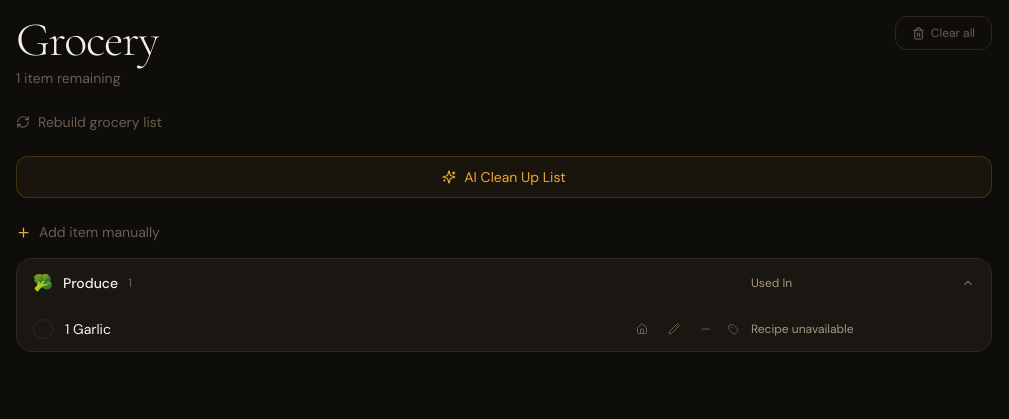
AI grocery cleanup page workflow › rejects invalid merge indices before displaying an actionable preview
Click the button "AI Clean Up List" at (504, 177), box [16,156,992,198]
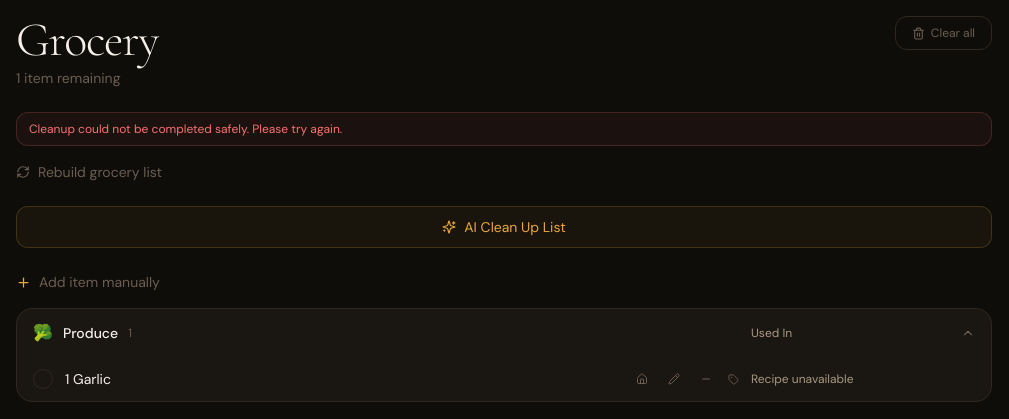
Result: the message shows "could not be completed safely" at [29,121,342,137]
